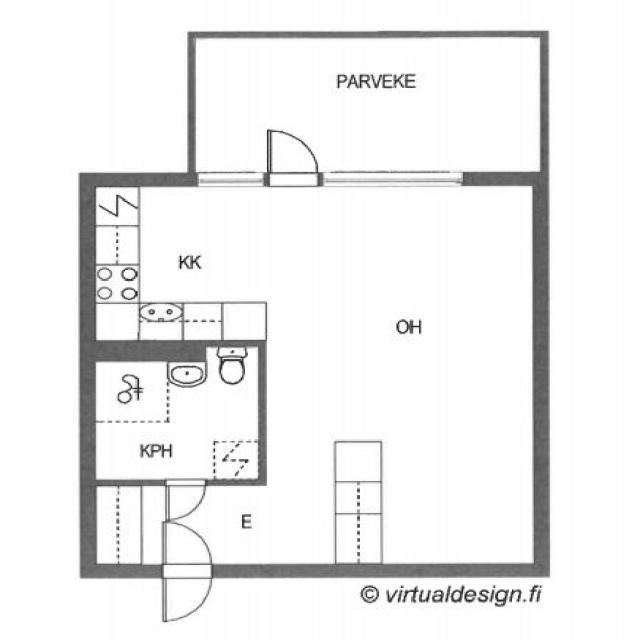door: (156, 516, 219, 624), (260, 125, 324, 187), (155, 476, 213, 524)
window: (315, 159, 473, 196), (189, 165, 272, 195)
zone: (86, 177, 542, 342), (260, 340, 542, 574), (195, 35, 542, 171), (90, 340, 262, 481)
